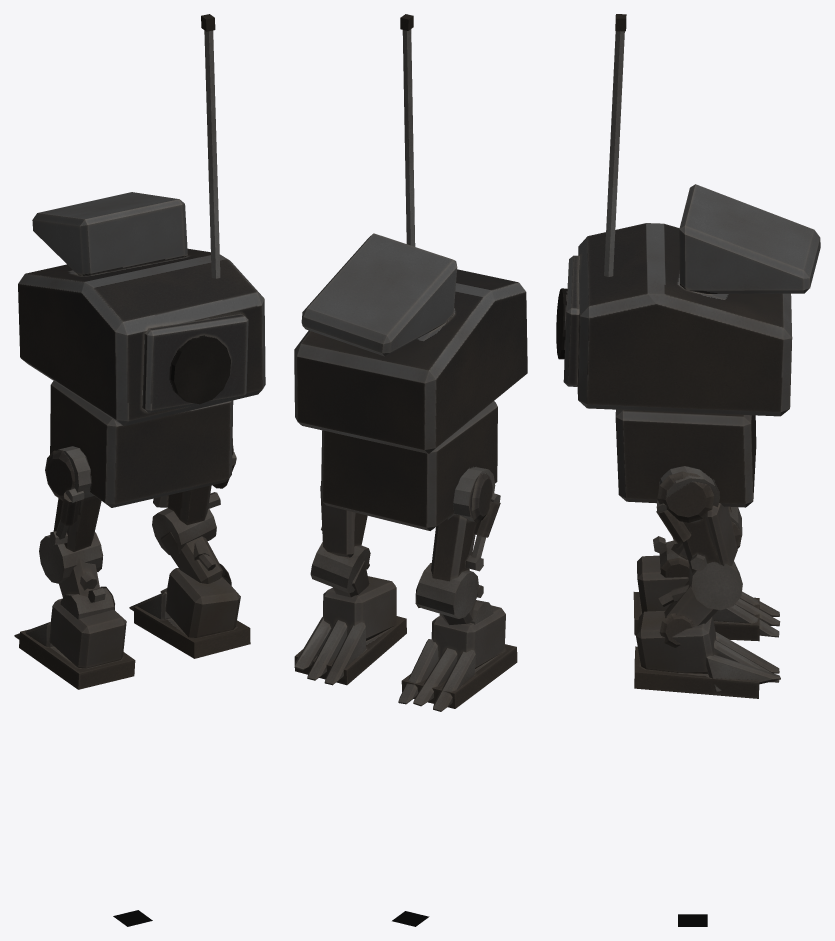
Rendered from chs_snitch_wreck.fbx.
3 renders of one model, left to right at view 1: azimuth 30°, elevation 25°; view 2: azimuth 150°, elevation 25°; view 3: azimuth 270°, elevation 25°, orthographic. The views are drawn at different scales.
Parts seen in each view (by area): view 1: torso_bar, base_bar, footR_bar, footL_bar, thighL_bar, thighR_bar, shinL_bar, shinR_bar; view 2: torso_bar, base_bar, footR_bar, footL_bar, thighL_bar, thighR_bar, shinL_bar; view 3: torso_bar, base_bar, footR_bar, thighR_bar, footL_bar, shinR_bar, shinL_bar.
Boxes of the visible parts, x1,y1,x2,y2 form: torso_bar: [18, 14, 265, 426]; base_bar: [50, 381, 233, 507]; footR_bar: [129, 568, 250, 658]; footL_bar: [14, 598, 135, 689]; thighL_bar: [39, 446, 103, 583]; thighR_bar: [152, 438, 236, 554]; shinL_bar: [58, 558, 114, 619]; shinR_bar: [160, 531, 231, 585]; torso_bar: [294, 14, 527, 453]; base_bar: [321, 401, 497, 530]; footR_bar: [294, 576, 406, 685]; footL_bar: [398, 605, 517, 711]; thighL_bar: [415, 467, 500, 618]; thighR_bar: [310, 486, 370, 593]; shinL_bar: [439, 585, 493, 624]; torso_bar: [556, 14, 820, 416]; base_bar: [615, 409, 756, 507]; footR_bar: [634, 611, 780, 698]; thighR_bar: [656, 466, 742, 610]; footL_bar: [633, 555, 780, 641]; shinR_bar: [658, 580, 717, 647]; shinL_bar: [653, 536, 689, 577].
Bounding box in the file's own units: 136 × 688 × 178.
Materials: 2 (2 with a texture image).
